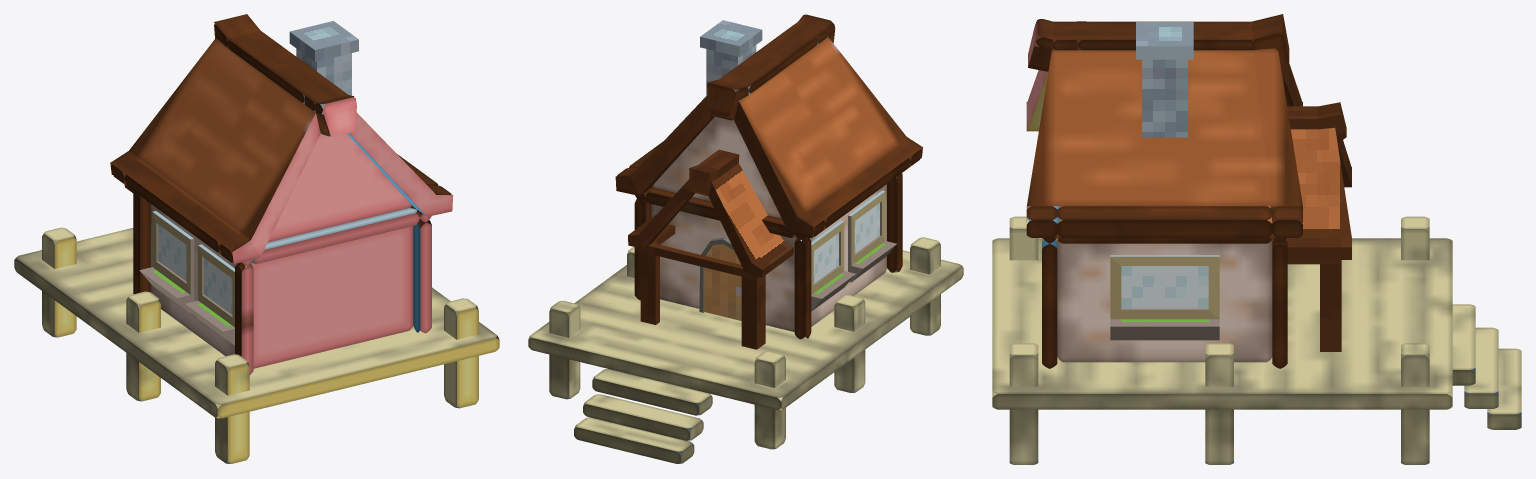
File: house4.fbx
3 views of the same model, side by side, from view 1: azimuth 30°, elevation 25°; view 2: azimuth 150°, elevation 25°; view 3: azimuth 270°, elevation 25° (orthographic). The views are drawn at different scales.
Visible parts, largest first — view 1: main house, base, chim, pole_2, pole_1, window_5, pole_5, pole_3, window_6, perch_4, perch_5; view 2: main house, base, entrance, stairs_1, stairs, stairs_2, chim, pole_3, pole, main door, window_6, pole_5 (+5 smaller); view 3: main house, base, entrance, window_4, chim, pole_1, pole_4, pole, perch_3, stairs_1, stairs_2, stairs (+2 smaller).
Part boxes in pixels (x1=…): main house: x1=110, y1=14, x2=453, y2=374; base: x1=14, y1=228, x2=499, y2=418; chim: x1=289, y1=21, x2=358, y2=114; pole_2: x1=215, y1=354, x2=249, y2=463; pole_1: x1=444, y1=298, x2=478, y2=408; window_5: x1=152, y1=211, x2=194, y2=294; pole_5: x1=126, y1=291, x2=160, y2=401; pole_3: x1=42, y1=227, x2=76, y2=337; window_6: x1=198, y1=244, x2=234, y2=327; perch_4: x1=139, y1=267, x2=194, y2=313; perch_5: x1=185, y1=300, x2=234, y2=345; main house: x1=615, y1=14, x2=922, y2=339; base: x1=528, y1=250, x2=963, y2=409; entrance: x1=628, y1=149, x2=801, y2=349; stairs_1: x1=583, y1=394, x2=703, y2=440; stairs: x1=592, y1=369, x2=712, y2=415; stairs_2: x1=574, y1=417, x2=694, y2=463; chim: x1=700, y1=20, x2=762, y2=115; pole_3: x1=754, y1=351, x2=785, y2=449; pole: x1=549, y1=300, x2=580, y2=399; main door: x1=704, y1=244, x2=741, y2=320; window_6: x1=848, y1=190, x2=885, y2=265; pole_5: x1=834, y1=294, x2=865, y2=392; main house: x1=1026, y1=14, x2=1302, y2=368; base: x1=992, y1=238, x2=1452, y2=409; entrance: x1=1267, y1=102, x2=1351, y2=351; window_4: x1=1110, y1=255, x2=1219, y2=319; chim: x1=1136, y1=22, x2=1193, y2=137; pole_1: x1=1009, y1=343, x2=1038, y2=464; pole_4: x1=1205, y1=343, x2=1233, y2=464; pole: x1=1401, y1=343, x2=1429, y2=464; perch_3: x1=1110, y1=319, x2=1219, y2=340; stairs_1: x1=1464, y1=327, x2=1498, y2=408; stairs_2: x1=1487, y1=348, x2=1521, y2=429; stairs: x1=1452, y1=304, x2=1475, y2=385.
Size of the model in its own units: 200 by 231 by 288.
6 materials, 6 textured.
